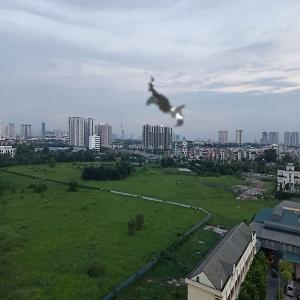drone: (60, 5, 278, 223)
